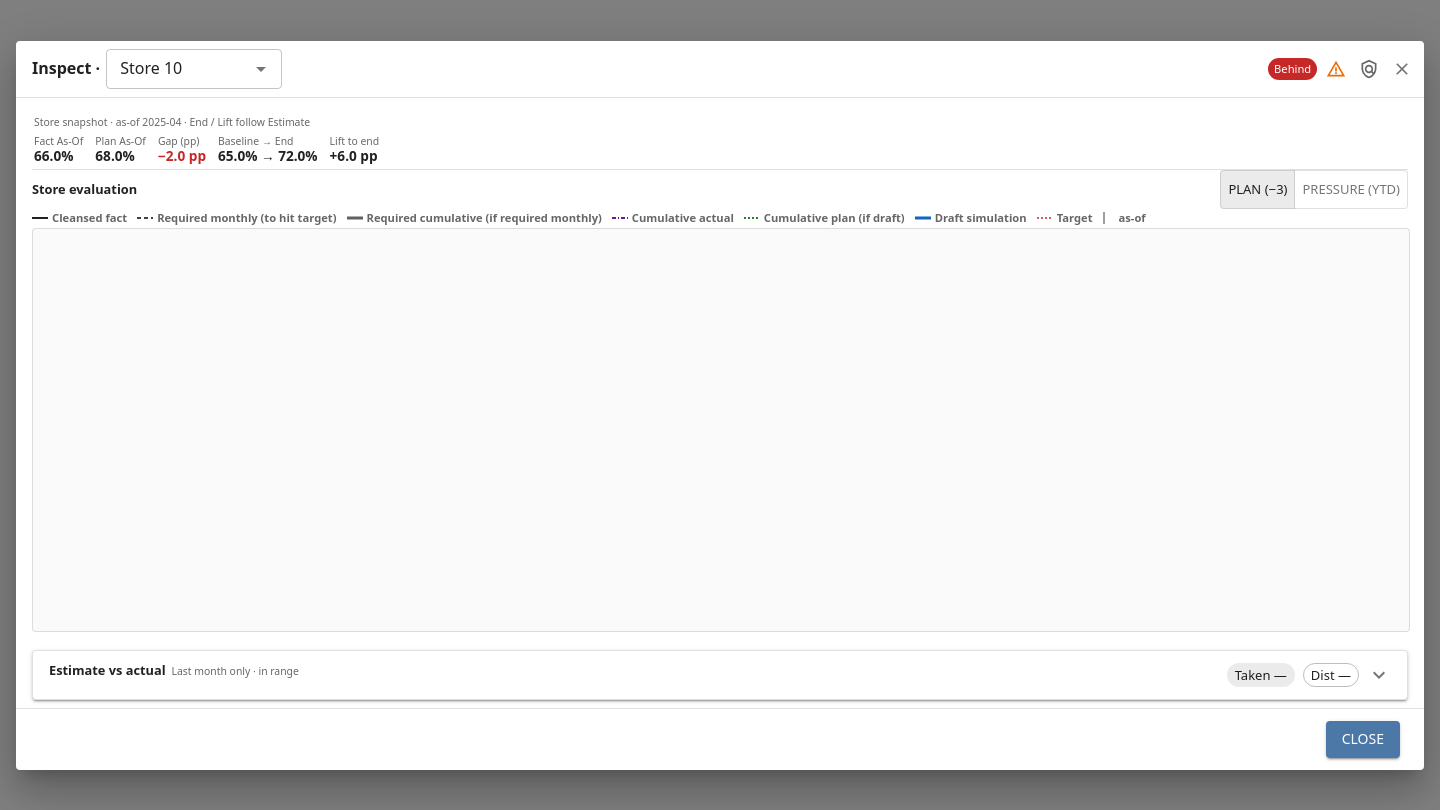
Scenario: StoreAuditDrawer › recalculates Taken/pool and opens pool dialog on demand
Click the button "Estimate vs actual Last month only · in range Taken — Dist —".
click(107, 670)  # box [33,651,1407,699]
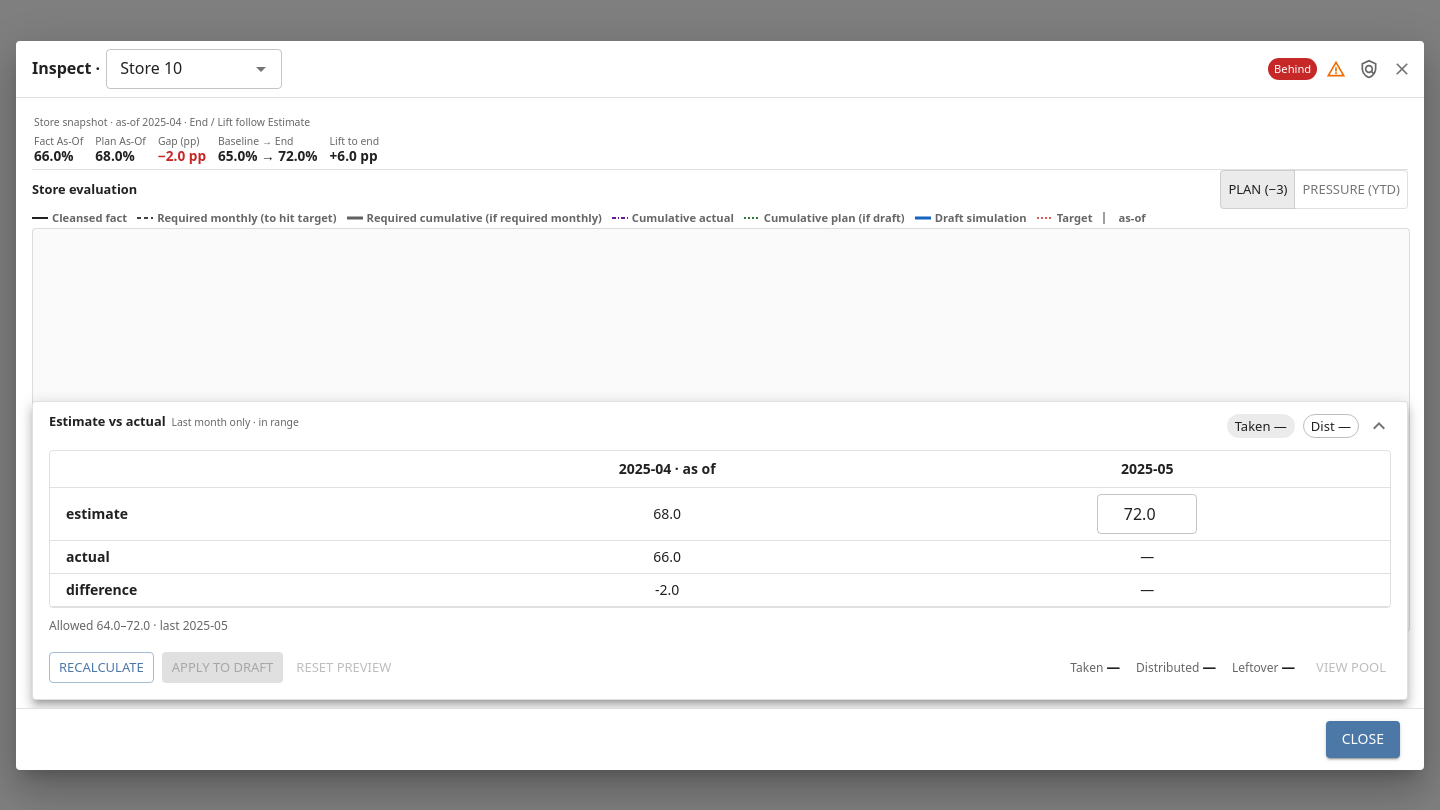
Expected: the number field named "Last month estimate" is shown
Replace the text in the number field named "Last month estimate" with "70" at (1147, 514), box [1097,494,1197,534]
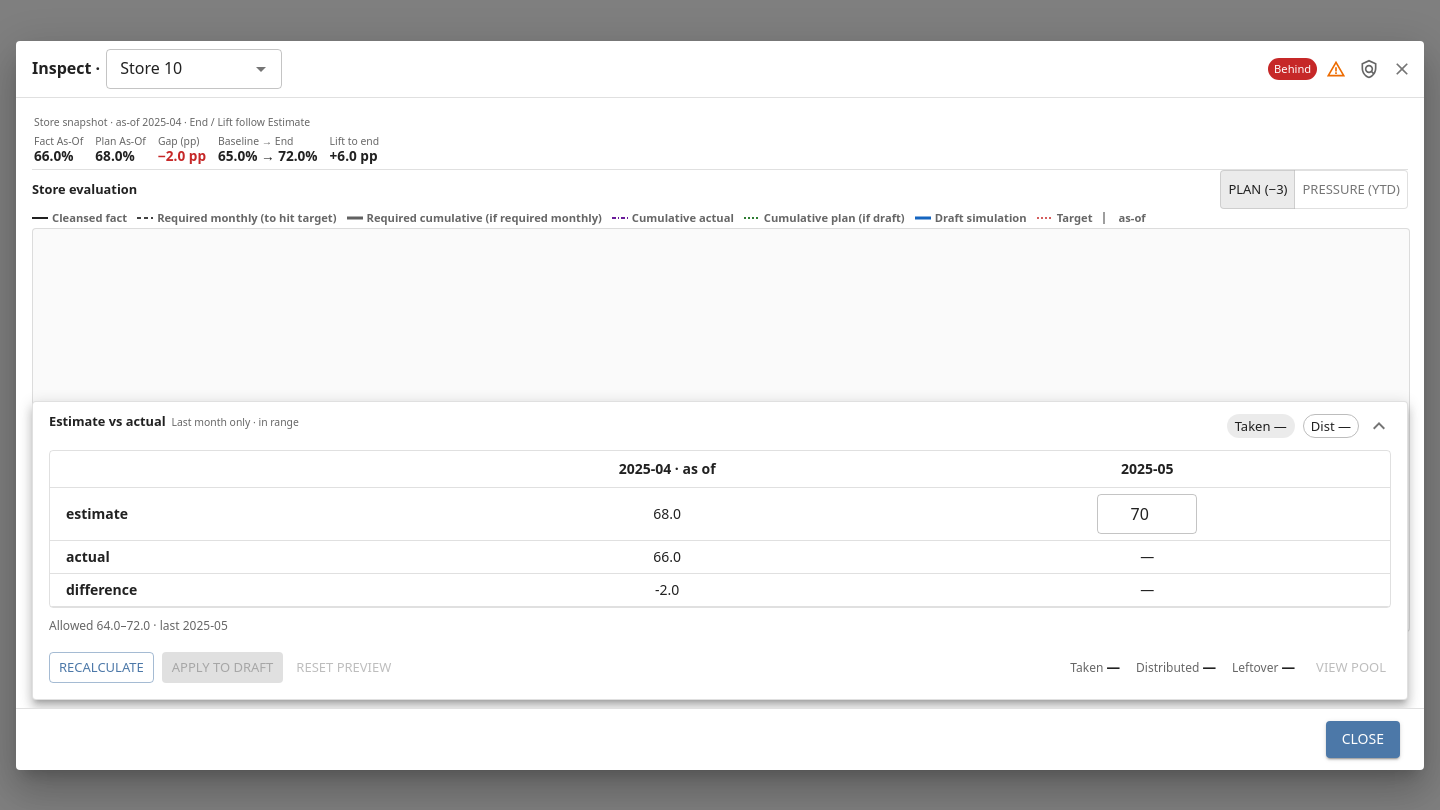
Click the button with test id "inspect-recalculate".
click(101, 667)  # box [49,652,154,683]
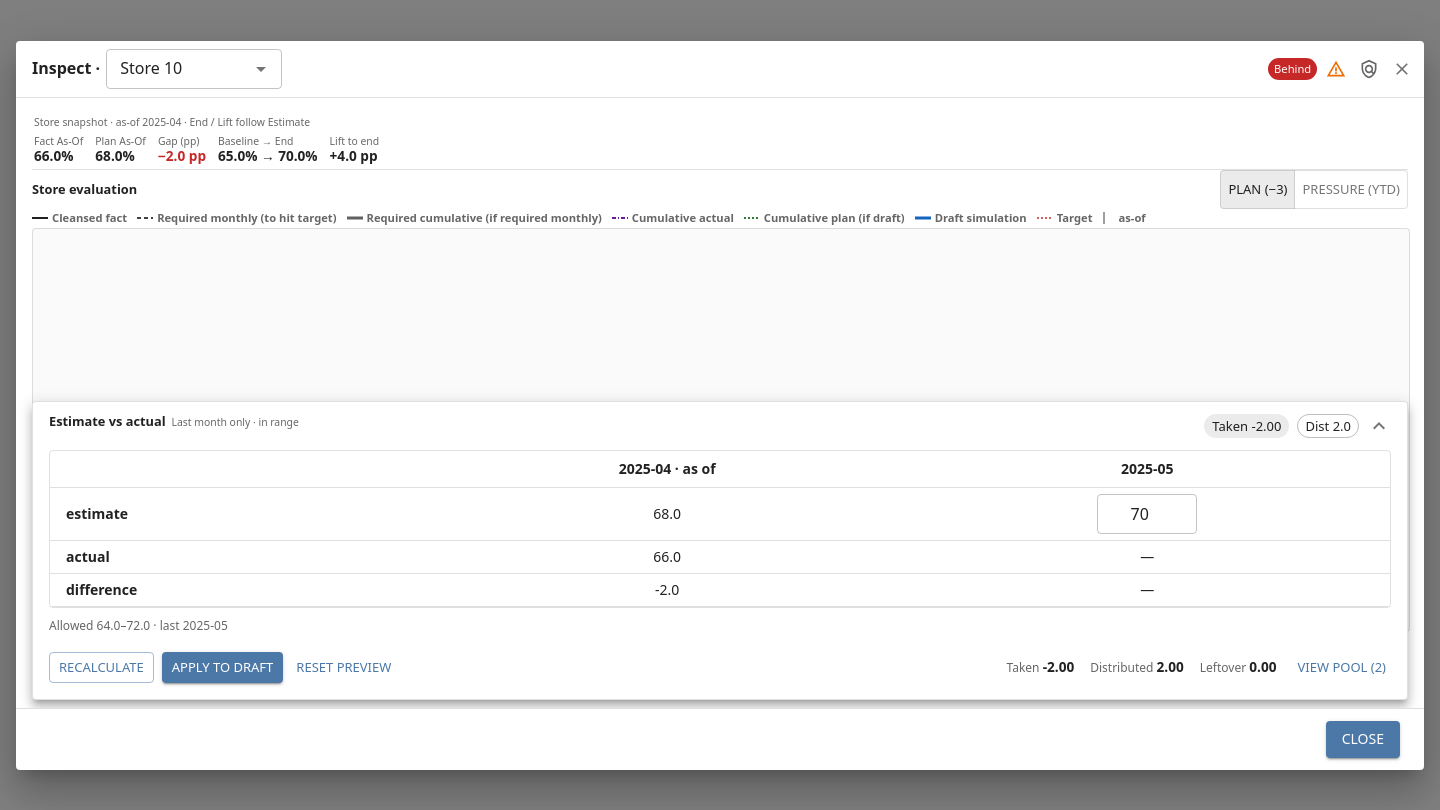
Expected: the button with test id "inspect-reset" is enabled, [291,652,396,683]
Expected: the button with test id "inspect-apply" is enabled, [162,652,283,683]
Expected: the button with test id "inspect-view-pool" is enabled
Click the button with test id "inspect-view-pool".
click(1342, 667)  # box [1292,652,1391,683]
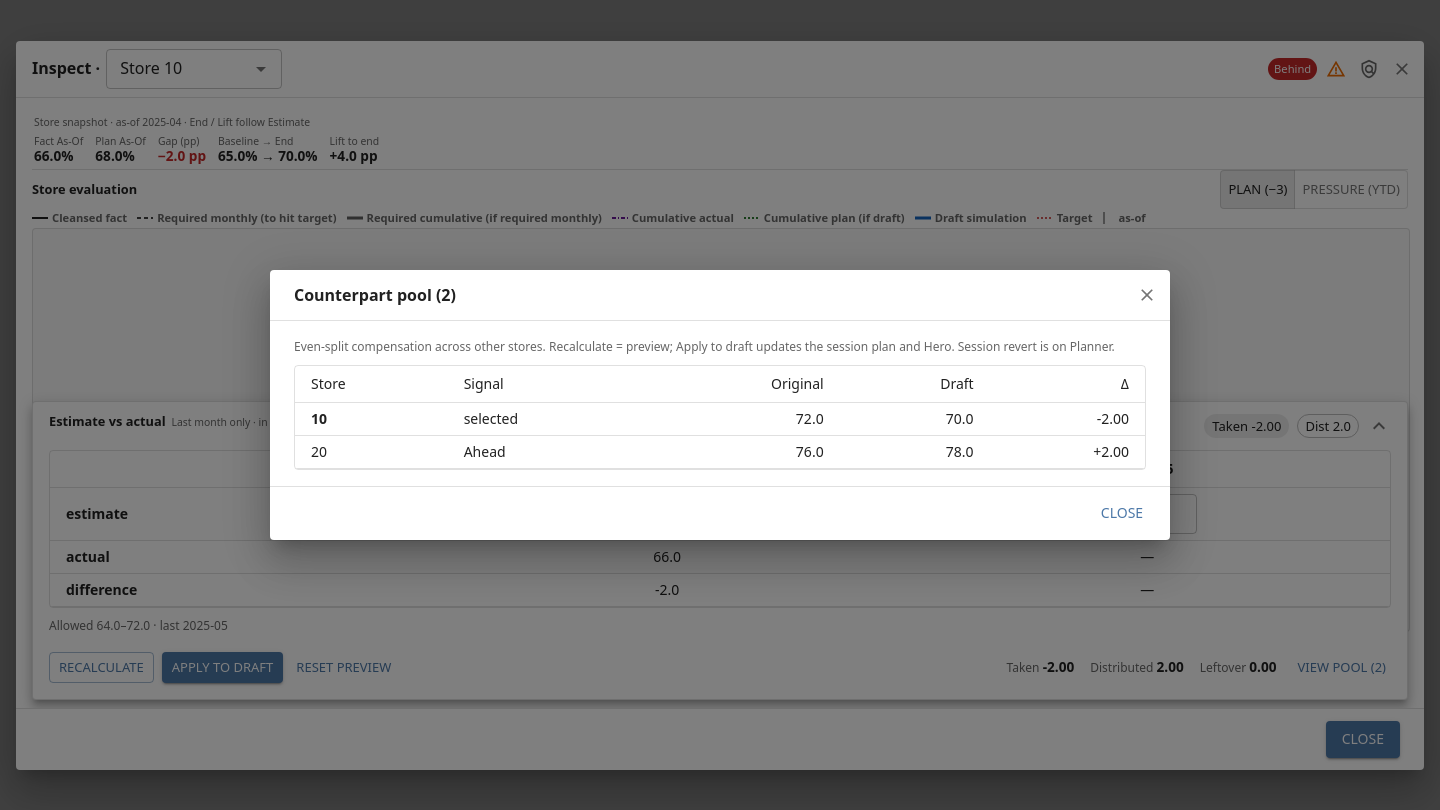
Expected: the element with test id "inspect-pool-dialog" is shown
Expected: the text "Counterpart pool (2)" is shown, [294,284,456,306]
Expected: the text "selected" is shown, [448,403,646,436]
